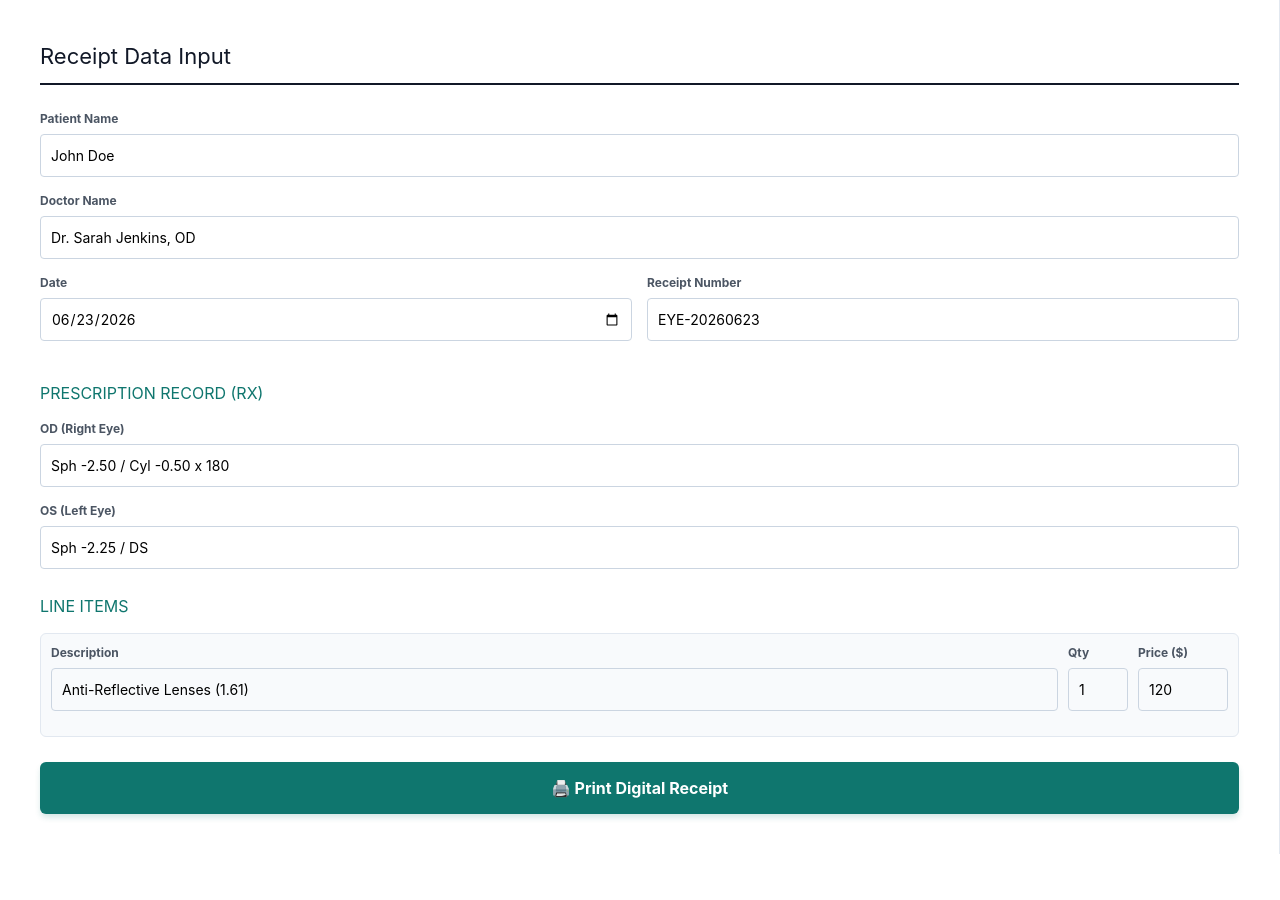
Test: ReceiptForm Component - User Input Triggers › shows error when prescription OD is missing
Clear the field labelled "OD (Right Eye)" at x=640, y=466, box [40,444,1239,487]
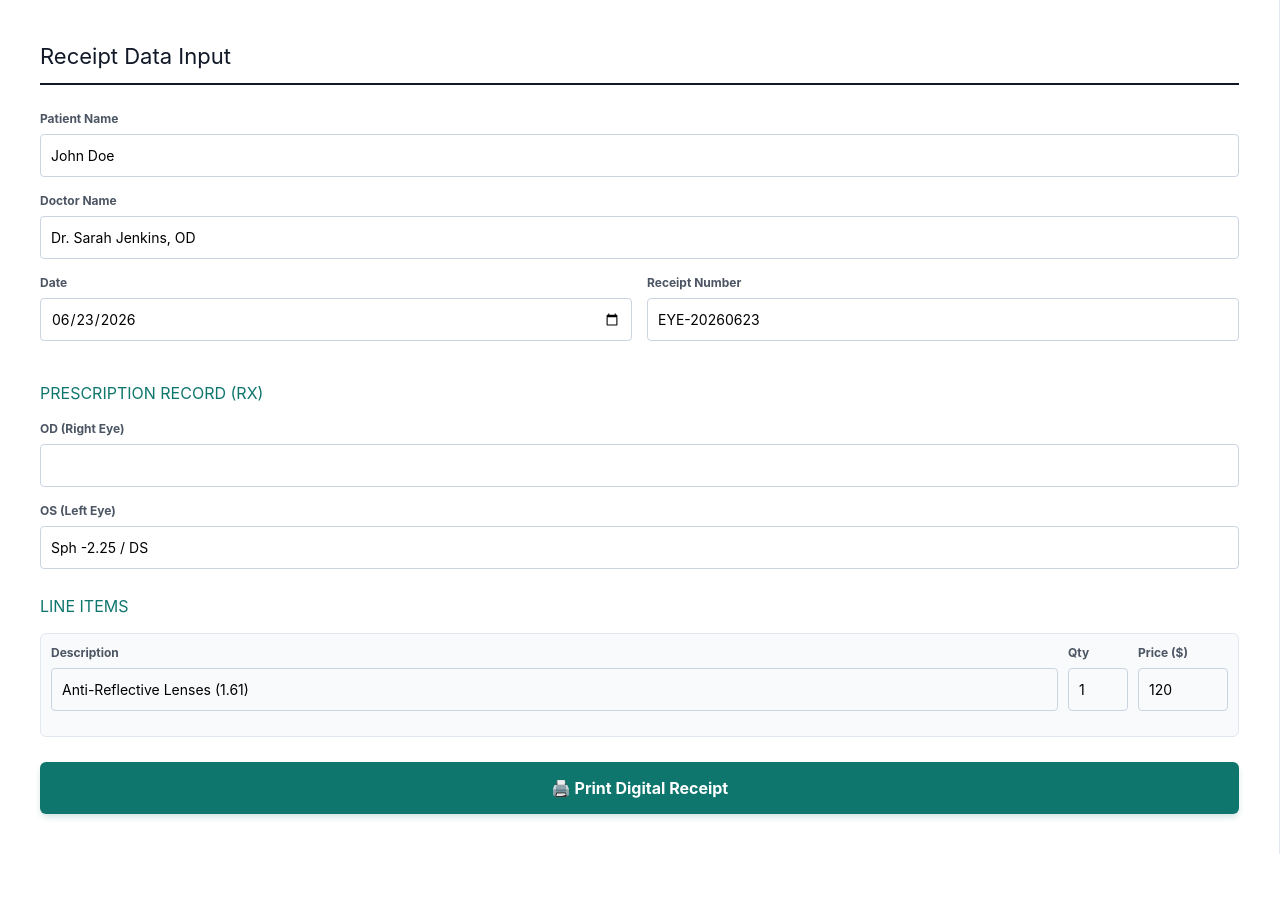
Replace the text in the field labelled "OS (Left Eye)" with "Sph -1.75 / DS" at x=640, y=548, box [40,526,1239,569]
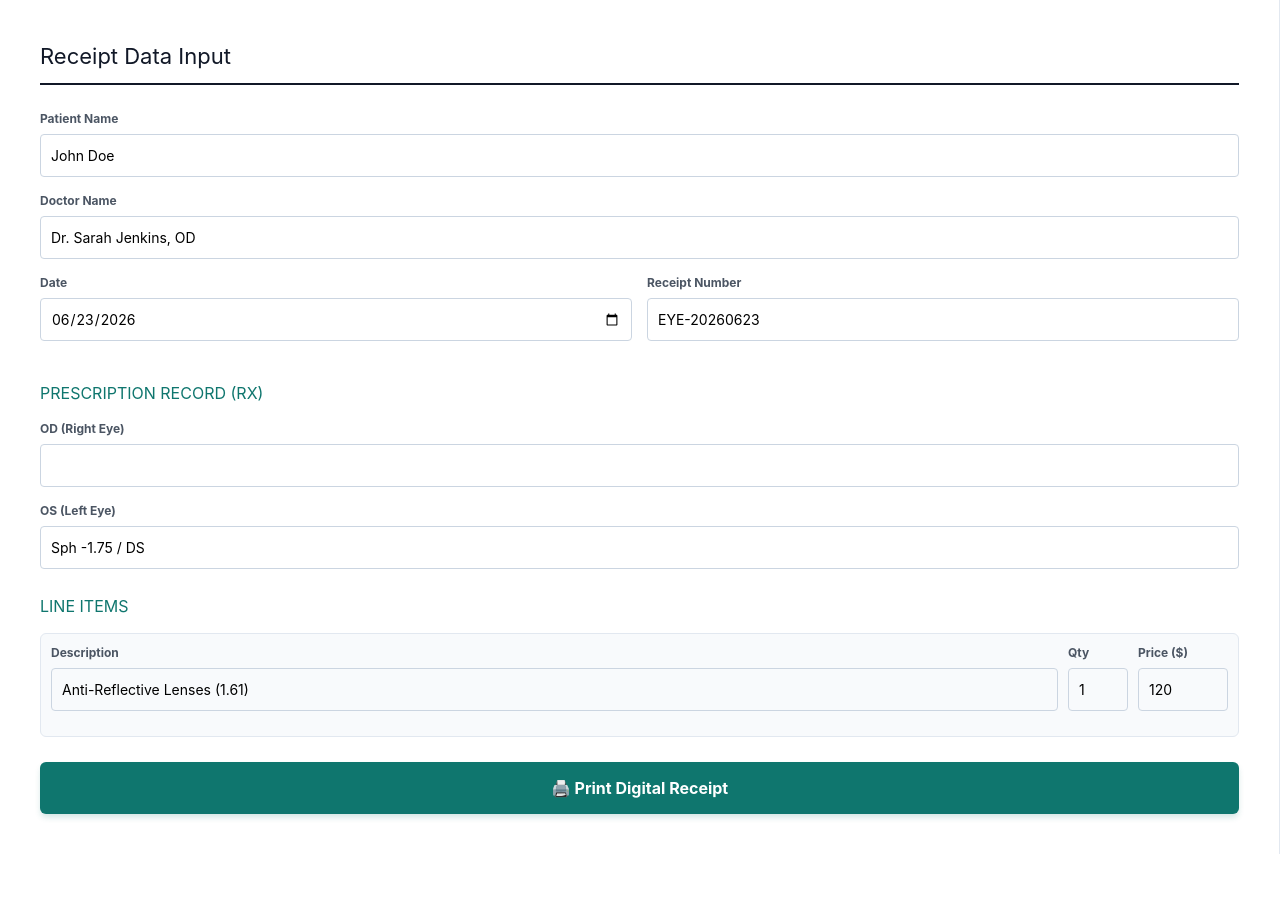
Submit the form
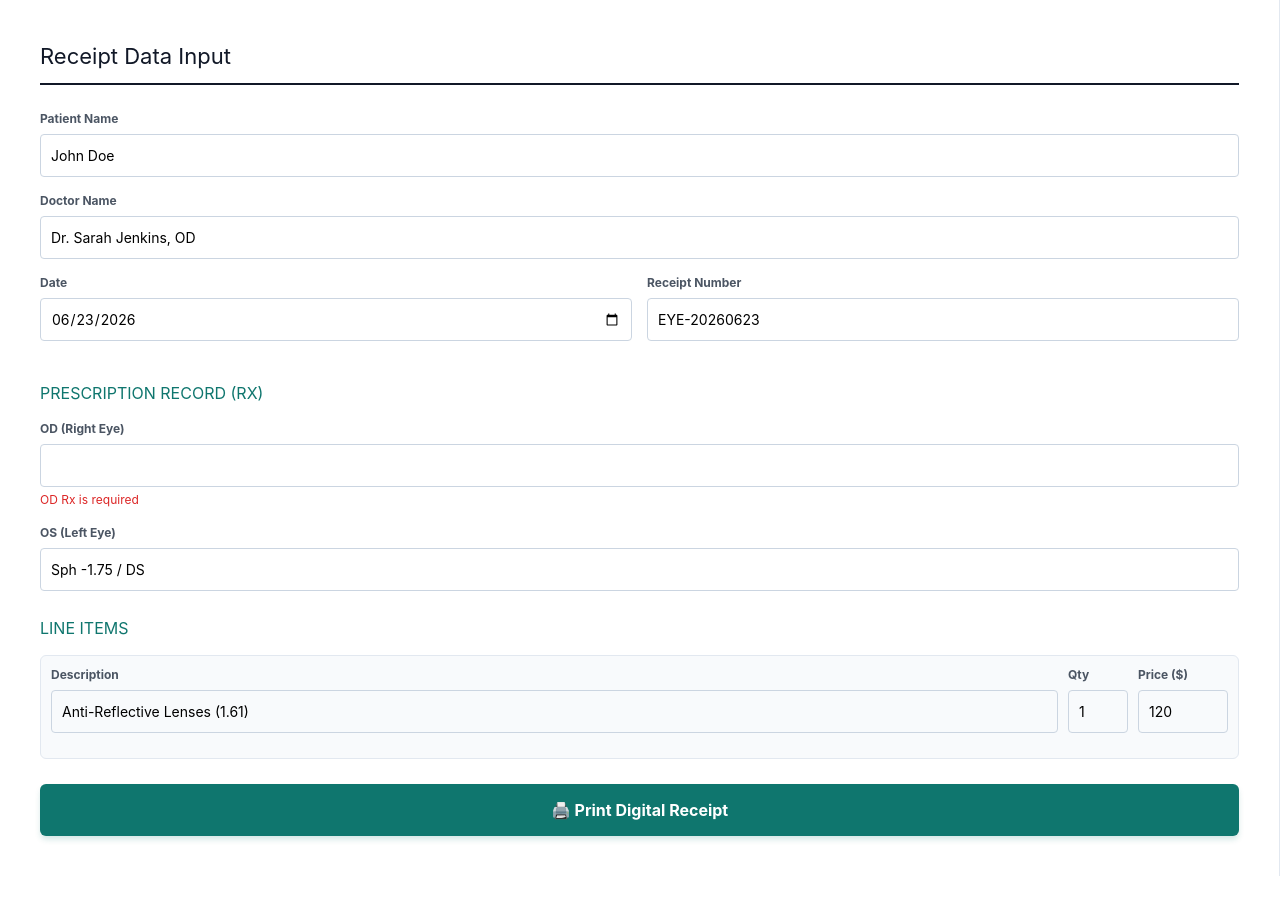
Check: the text "OD Rx is required" is shown, box [40,492,139,507]
